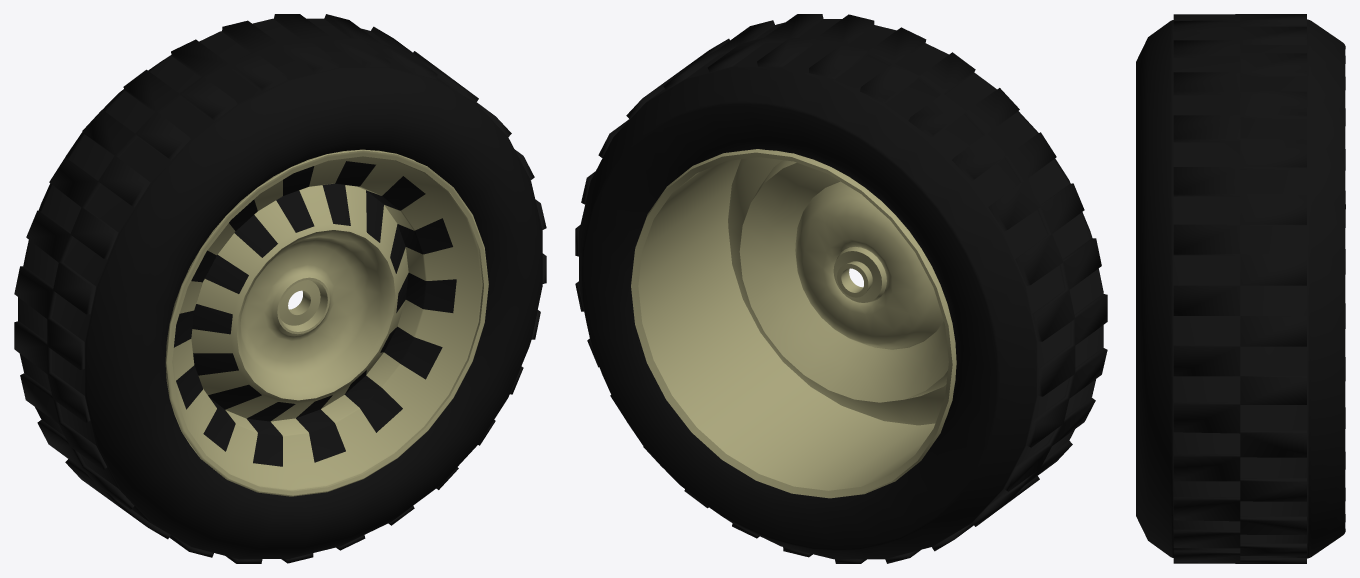
The model's file is hmmwv_wheel.dae.
The picture shows the model from 3 angles, left to right: view 1: azimuth 30°, elevation 25°; view 2: azimuth 150°, elevation 25°; view 3: azimuth 270°, elevation 25°; orthographic projection.
Parts seen in each view (by area): view 1: Hummer_004; view 2: Hummer_004; view 3: Hummer_004.
Boxes of the visible parts, bbox=[...] form: Hummer_004: bbox=[14, 14, 546, 563]; Hummer_004: bbox=[575, 14, 1107, 563]; Hummer_004: bbox=[1136, 14, 1345, 563].
Bounding box in the file's own units: 0.9978 × 0.3809 × 0.9978.
